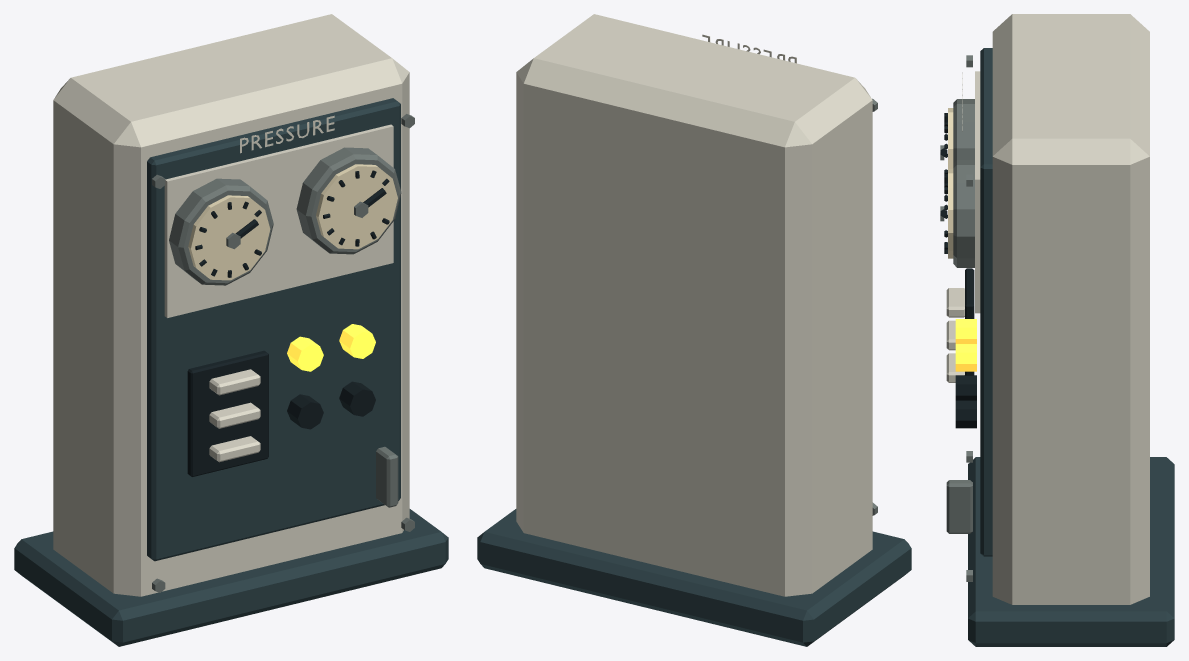
File: control-console.glb
3 views of the same model, side by side, from view 1: azimuth 30°, elevation 25°; view 2: azimuth 150°, elevation 25°; view 3: azimuth 270°, elevation 25° (orthographic). The views are drawn at different scales.
Visible parts, largest first — view 1: control-console__control-console__ivory, control-console__control-console__steel, control-console__control-console__rubber, control-console__control-console__gauge-face, control-console__control-console__hardware, control-console__control-console__signal-amber; view 2: control-console__control-console__ivory, control-console__control-console__steel; view 3: control-console__control-console__ivory, control-console__control-console__steel, control-console__control-console__hardware, control-console__control-console__rubber, control-console__control-console__signal-amber, control-console__control-console__gauge-face.
Boxes of the visible parts, box(x1,y1,x2,y2) form: control-console__control-console__ivory: box(53, 14, 409, 596); control-console__control-console__steel: box(14, 98, 448, 646); control-console__control-console__rubber: box(187, 170, 389, 476); control-console__control-console__gauge-face: box(188, 164, 397, 280); control-console__control-console__hardware: box(152, 114, 414, 592); control-console__control-console__signal-amber: box(287, 324, 375, 371); control-console__control-console__ivory: box(516, 14, 872, 596); control-console__control-console__steel: box(477, 509, 911, 646); control-console__control-console__ivory: box(946, 14, 1149, 604); control-console__control-console__steel: box(968, 48, 1174, 646); control-console__control-console__hardware: box(940, 55, 974, 581); control-console__control-console__rubber: box(940, 113, 976, 428); control-console__control-console__signal-amber: box(955, 319, 976, 371); control-console__control-console__gauge-face: box(948, 108, 953, 258).
Bounding box in the file's own units: 1.16 × 1.66 × 0.714.
